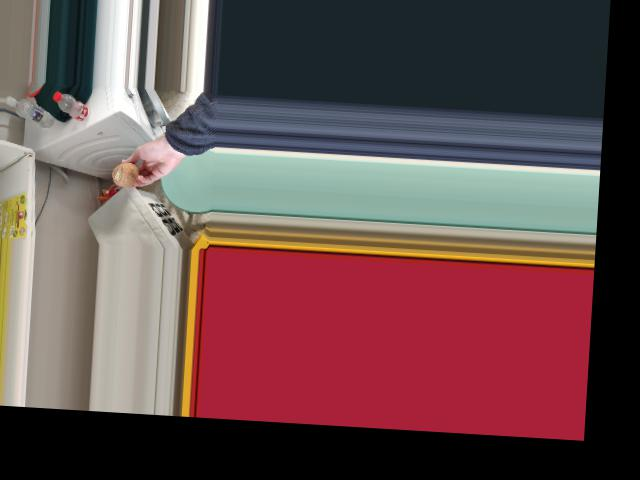sweet_potato: (112, 161, 142, 185)
